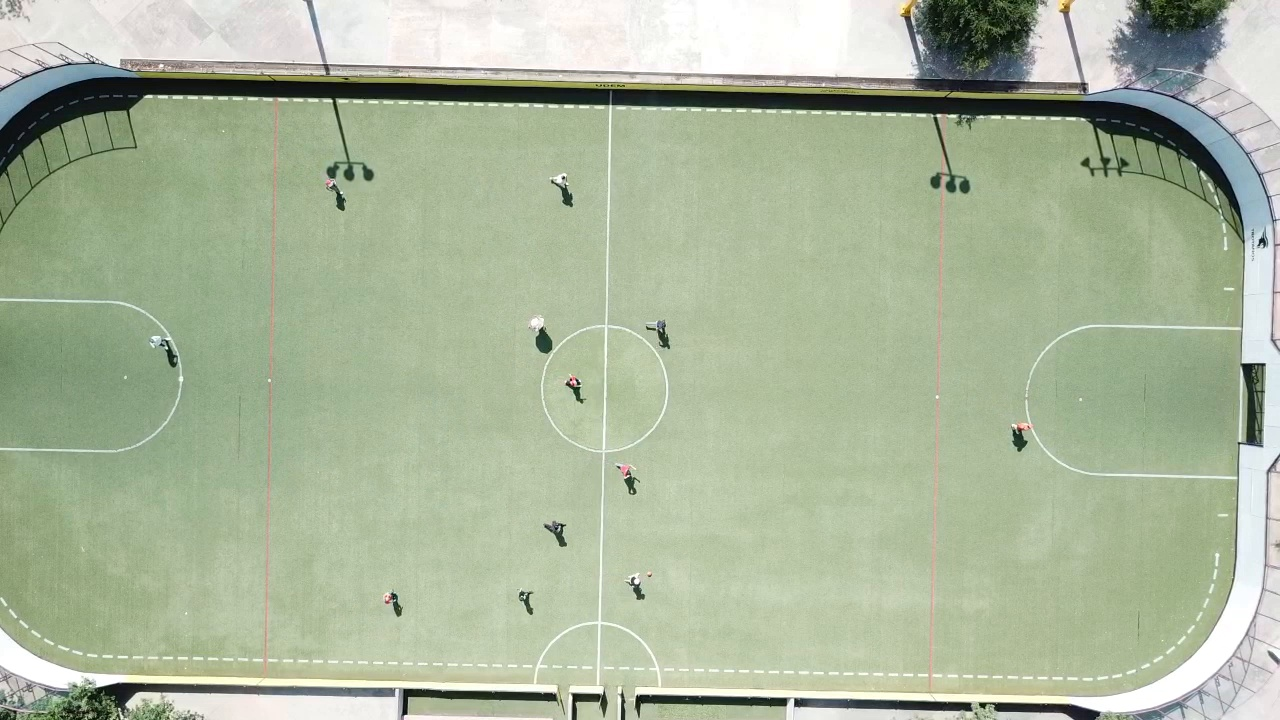ball: (647, 571, 652, 576)
player: (613, 461, 638, 482), (324, 176, 345, 196), (550, 172, 568, 190), (528, 315, 545, 334), (625, 573, 641, 592), (646, 320, 666, 335), (149, 335, 167, 350), (565, 375, 582, 390), (546, 521, 564, 535), (383, 591, 398, 605), (1012, 422, 1033, 432), (518, 590, 532, 604)
